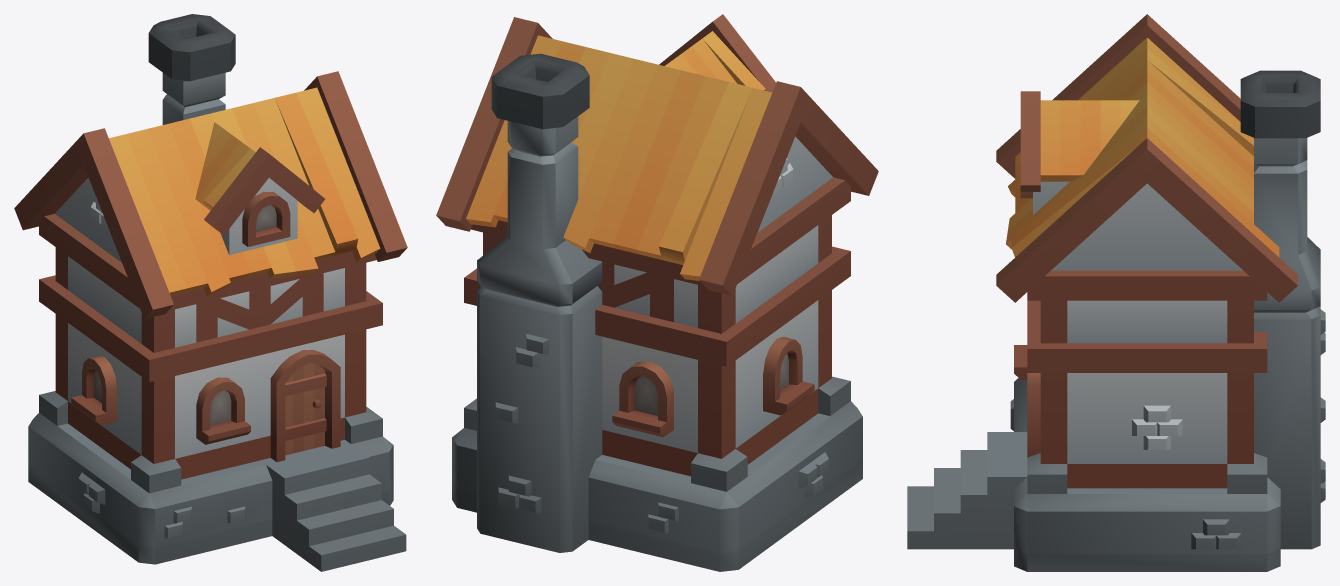
Rendered from H_home_B_yellow.glb.
3 views of the same model, side by side, from view 1: azimuth 30°, elevation 25°; view 2: azimuth 150°, elevation 25°; view 3: azimuth 270°, elevation 25° (orthographic). The views are drawn at different scales.
Visible parts, largest first — view 1: building_home_B_yellow; view 2: building_home_B_yellow; view 3: building_home_B_yellow.
Part boxes in pixels (left/top/right/bottom): building_home_B_yellow: left=14, top=14, right=407, bottom=571; building_home_B_yellow: left=436, top=14, right=878, bottom=571; building_home_B_yellow: left=907, top=14, right=1325, bottom=571.
Bounding box in the file's own units: 0.8749 × 1.28 × 1.1.
